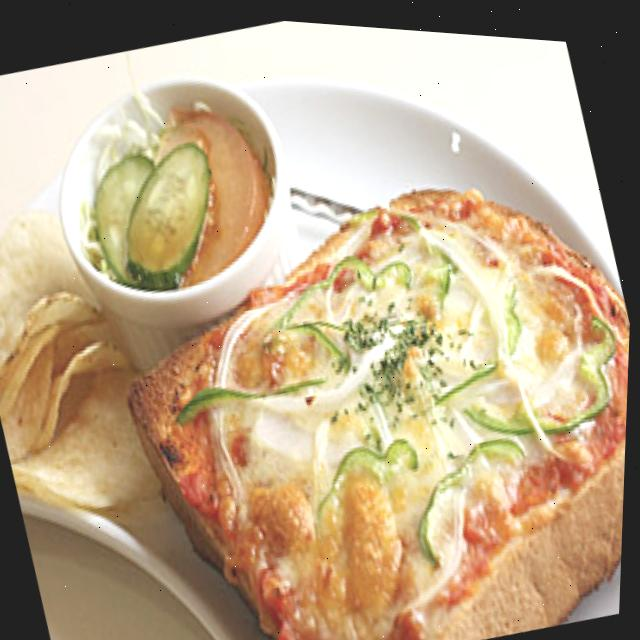面包点心: (148, 328, 631, 640)
